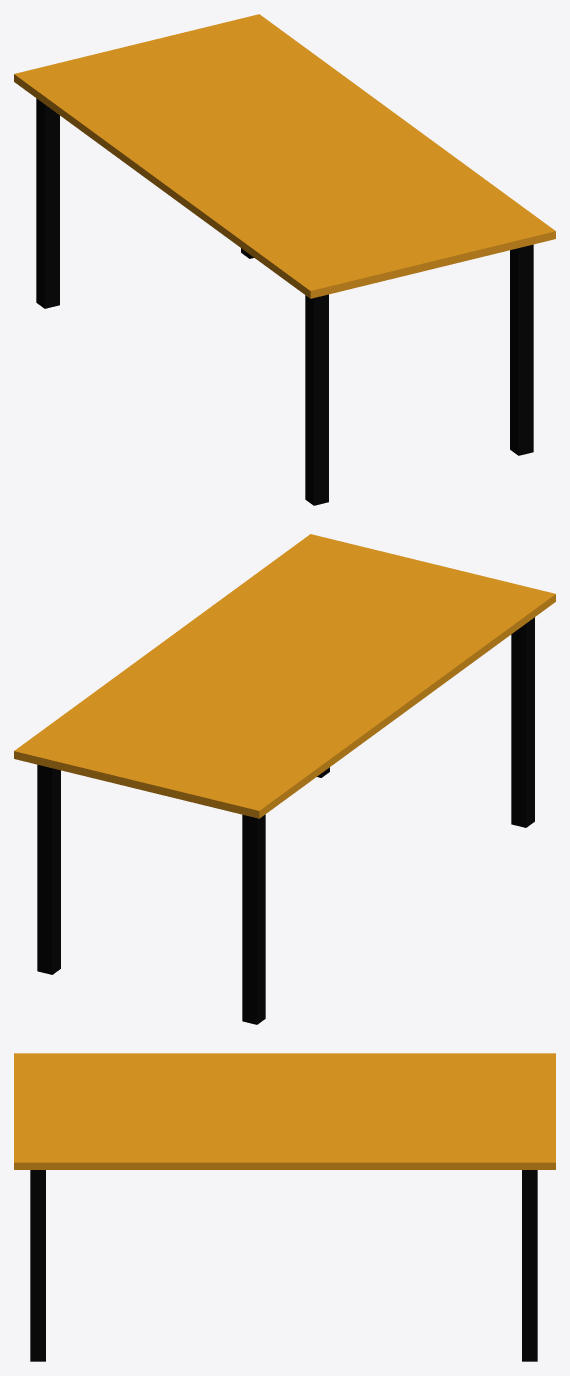
File: table-new3.fbx
3 renders of one model, top to bottom at view 1: azimuth 30°, elevation 25°; view 2: azimuth 150°, elevation 25°; view 3: azimuth 270°, elevation 25°, orthographic. The views are drawn at different scales.
Visible parts, largest first — view 1: Table; view 2: Table; view 3: Table.
Part boxes in pixels (<box>): Table: <box>14,14,555,505</box>; Table: <box>14,534,555,1024</box>; Table: <box>14,1053,555,1361</box>.
Bounding box in the file's own units: 2 × 1.75 × 4.19.
